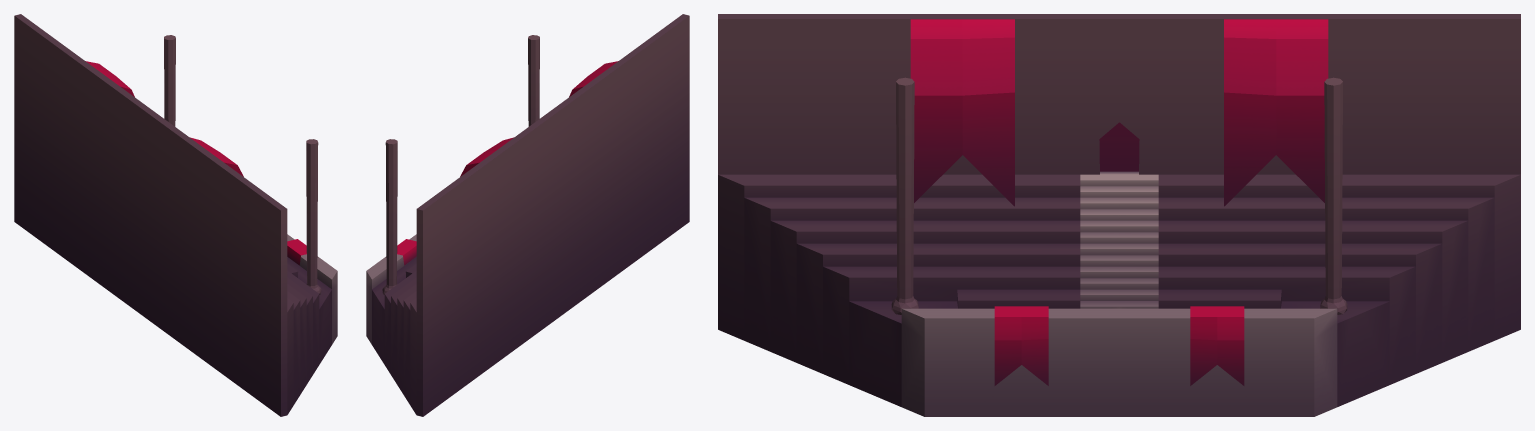
The model's file is arena1.fbx.
3 views of the same model, side by side, from view 1: azimuth 30°, elevation 25°; view 2: azimuth 150°, elevation 25°; view 3: azimuth 270°, elevation 25° (orthographic). The views are drawn at different scales.
Visible parts, largest first — view 1: Cube.008; view 2: Cube.008; view 3: Cube.008.
Boxes of the visible parts, <box> form: Cube.008: <box>14,14,337,416</box>; Cube.008: <box>366,14,689,416</box>; Cube.008: <box>718,14,1520,416</box>.
Bounding box in the file's own units: 1952 × 3001 × 7000.
